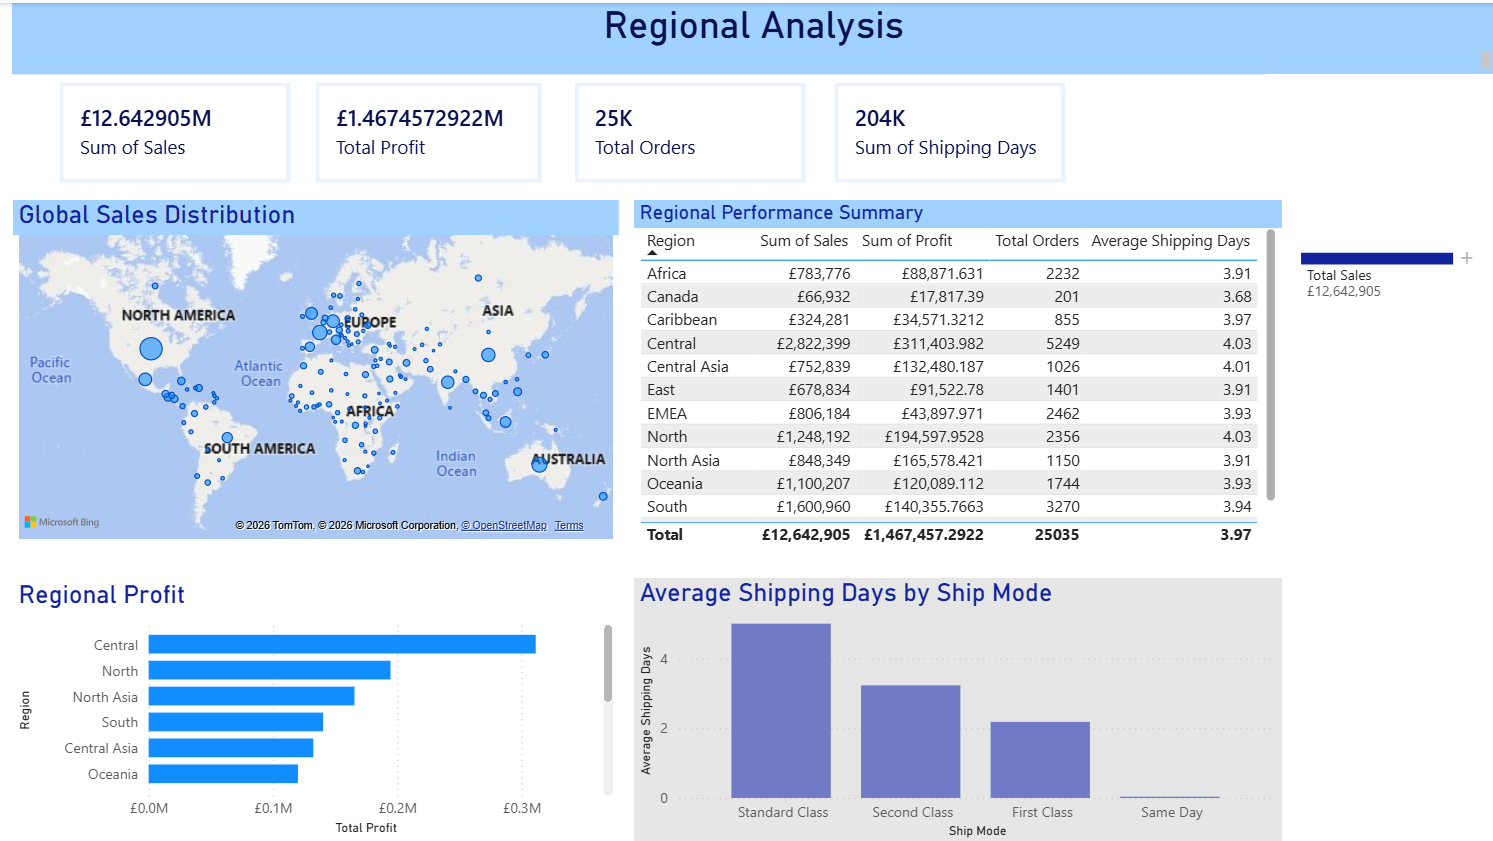

This screenshot's page, from the dashboard's own definition file:
{"tool":"powerbi","page":{"name":"Regional Analysis","canvas":[1280,720],"ordinal":2},"visuals":[{"type":"textbox","title":"Regional Analysis","box":[10.6,0,1268.9,60.6],"z":0},{"type":"cardVisual","fields":{"Data":["Sum(Task_1_Dataset_Superstore.Sales)"]},"box":[51,68,196.5,85],"z":1000},{"type":"cardVisual","fields":{"Data":["Sum(Task_1_Dataset_Superstore.Shipping Days)"]},"box":[714.3,68,196.5,85],"z":2000},{"type":"cardVisual","fields":{"Data":["Task_1_Dataset_Superstore.Total Orders"]},"box":[491.3,68,196.5,85],"z":2001},{"type":"cardVisual","fields":{"Data":["Task_1_Dataset_Superstore.Total Profit"]},"box":[270.2,68,192.8,85],"z":2002},{"type":"map","title":"Global Sales Distribution","fields":{"Category":["Task_1_Dataset_Superstore.Country"],"Size":["Task_1_Dataset_Superstore.Total Sales"]},"box":[11.3,168.2,517.8,294.8],"z":2003},{"type":"clusteredBarChart","title":"Regional Profit","fields":{"Category":["Task_1_Dataset_Superstore.Region"],"Y":["Task_1_Dataset_Superstore.Total Profit"]},"box":[11.3,493.2,518,222],"z":2004},{"type":"clusteredColumnChart","title":"Average Shipping Days by Ship Mode","fields":{"Category":["Task_1_Dataset_Superstore.Ship Mode"],"Y":["Task_1_Dataset_Superstore.Average Shipping Days"]},"box":[542.4,491.3,553.7,226.8],"z":2005},{"type":"decompositionTreeVisual","fields":{"ExplainBy":["Task_1_Dataset_Superstore.Market"],"Analyze":["Task_1_Dataset_Superstore.Total Sales"]},"box":[1082.8,60.5,196.5,215.4],"z":2006},{"type":"tableEx","title":"Regional Performance Summary","fields":{"Values":["Task_1_Dataset_Superstore.Region","Sum(Task_1_Dataset_Superstore.Sales)","Sum(Task_1_Dataset_Superstore.Profit)","Task_1_Dataset_Superstore.Total Orders","Task_1_Dataset_Superstore.Average Shipping Days"]},"box":[542.4,168.2,553.7,300.5],"z":2007}]}

Visuals, with their boxes in screenshot pixels (x1, y1, x2, y2), scaled from the page's 1280x720 canvas onto the 1493x841 screenshot:
"Regional Analysis" textbox: left=12, top=0, right=1492, bottom=71
cardVisual - Sum(Task_1_Dataset_Superstore.Sales): left=59, top=79, right=289, bottom=179
cardVisual - Sum(Task_1_Dataset_Superstore.Shipping Days): left=833, top=79, right=1062, bottom=179
cardVisual - Task_1_Dataset_Superstore.Total Orders: left=573, top=79, right=802, bottom=179
cardVisual - Task_1_Dataset_Superstore.Total Profit: left=315, top=79, right=540, bottom=179
"Global Sales Distribution" map: left=13, top=196, right=617, bottom=541
"Regional Profit" clusteredBarChart: left=13, top=576, right=617, bottom=835
"Average Shipping Days by Ship Mode" clusteredColumnChart: left=633, top=574, right=1278, bottom=839
decompositionTreeVisual - Task_1_Dataset_Superstore.Market x Task_1_Dataset_Superstore.Total Sales: left=1263, top=71, right=1492, bottom=322
"Regional Performance Summary" tableEx: left=633, top=196, right=1278, bottom=547
